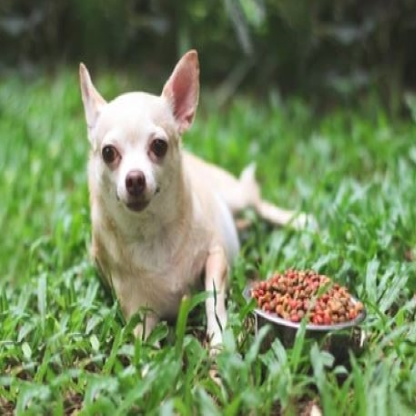chihuahua: (76, 48, 311, 361)
